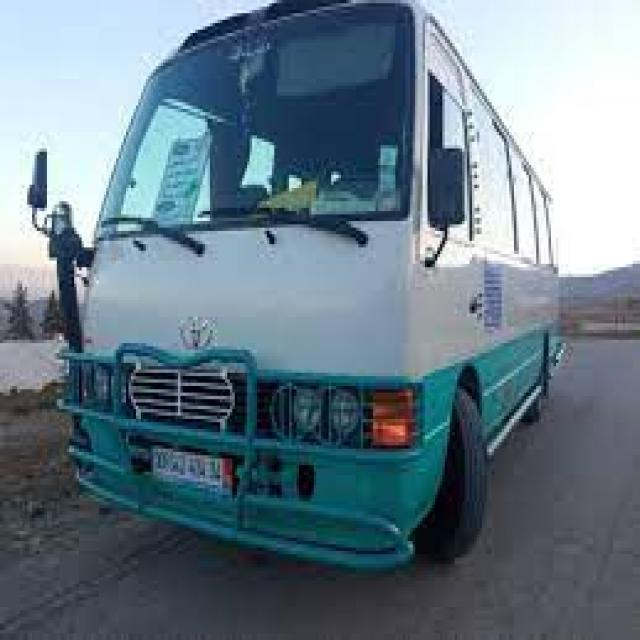bus: (90, 24, 585, 533)
